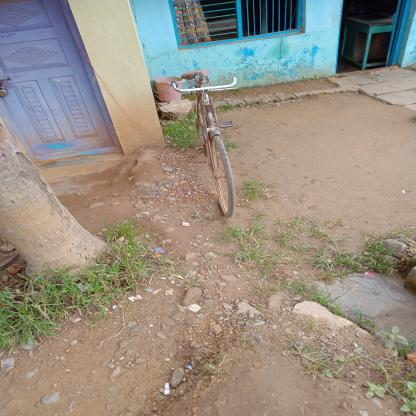bike: (144, 53, 279, 245)
